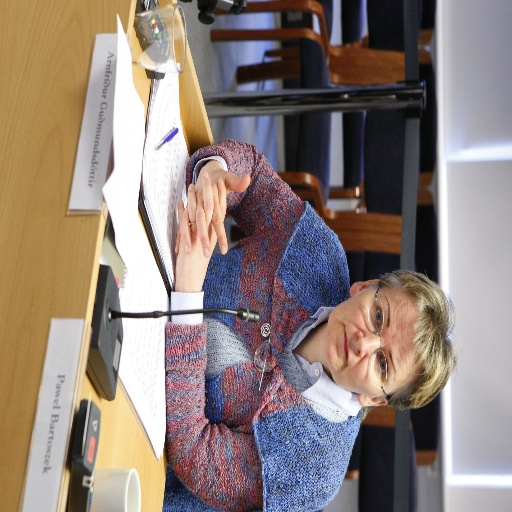hand: (172, 159, 251, 256)
